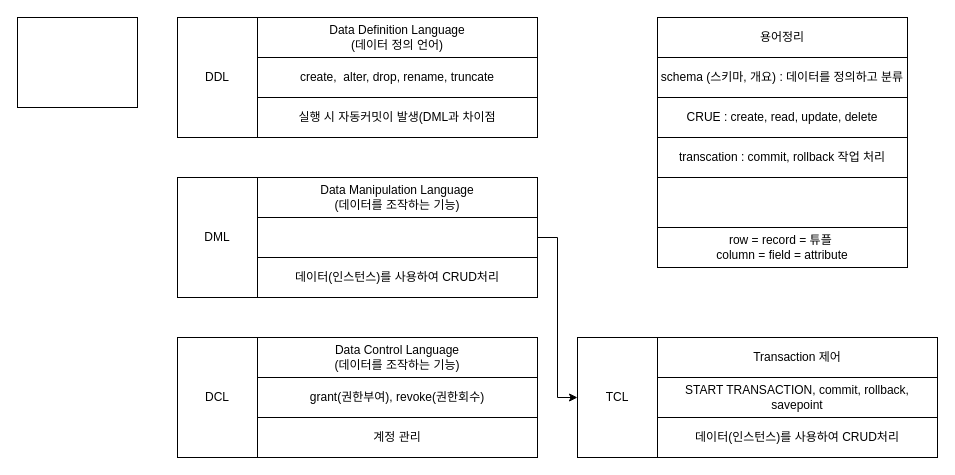
Image size: 955x475. Some labels were removed from this diagram. Each missing label, with the centre of its shape:
"domain : 영역, 범위 revoke : 폐지하다 grant : 승인하다, 인정하다" goes at pixel 782 202.
"select, insert, delete, update" goes at pixel 397 237.
"SQL 구문종류" goes at pixel 77 62.
